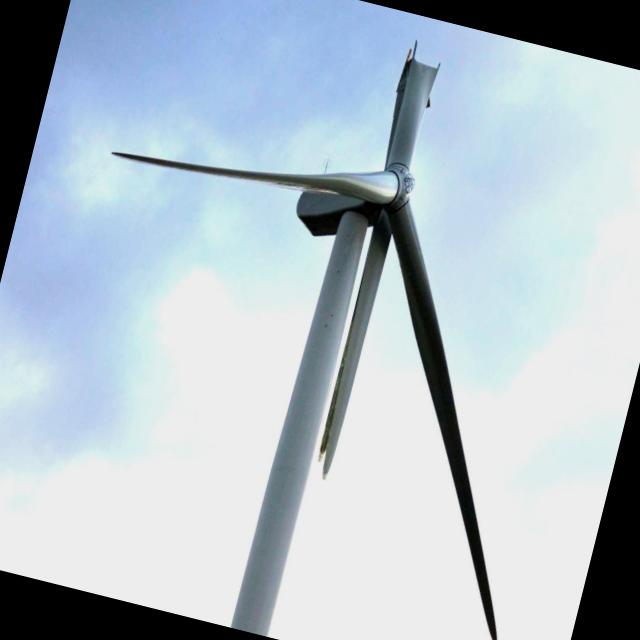crack: (287, 20, 468, 471)
